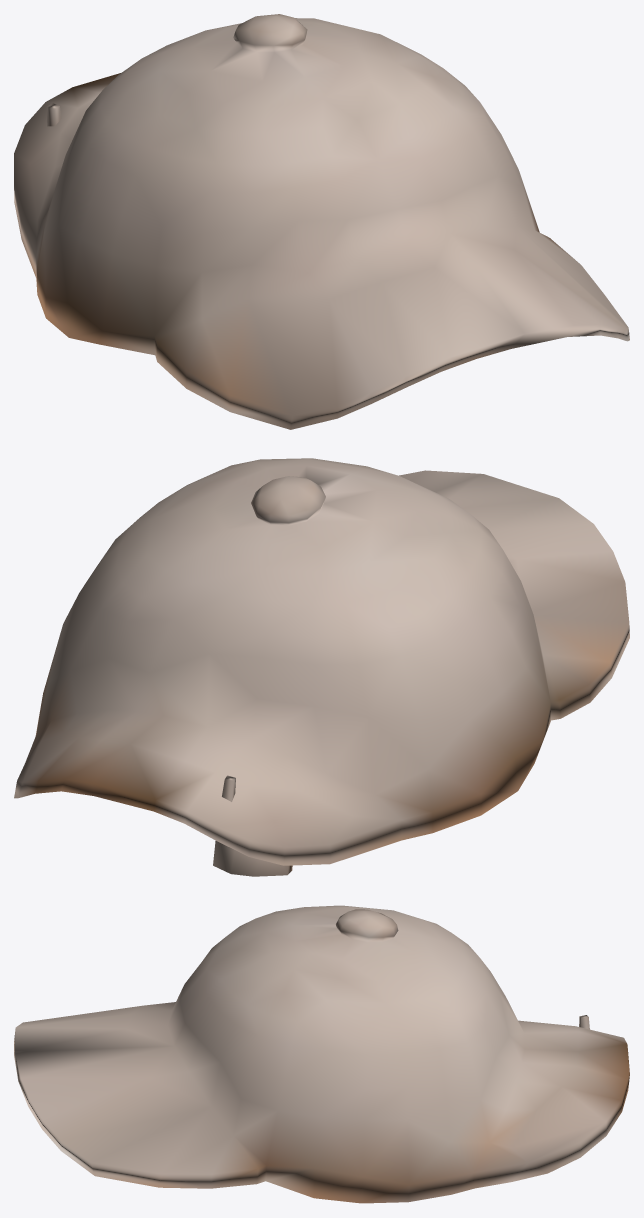
The model's file is host_q_tripo_p20_r2s2_cap.glb.
The picture shows the model from 3 angles, top to bottom: view 1: azimuth 30°, elevation 25°; view 2: azimuth 150°, elevation 25°; view 3: azimuth 270°, elevation 25°; orthographic projection. The views are drawn at different scales.
Parts seen in each view (by area): view 1: HostCap; view 2: HostCap; view 3: HostCap.
Part boxes in pixels (<box>): HostCap: <box>14,14,629,429</box>; HostCap: <box>14,458,629,876</box>; HostCap: <box>14,905,629,1203</box>.
Bounding box in the file's own units: 0.3613 × 0.2074 × 0.5536.
